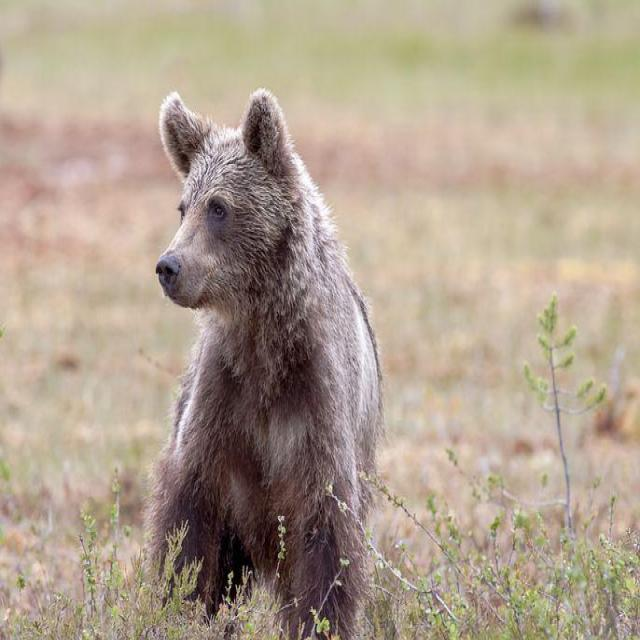Bear: (147, 89, 383, 640)
